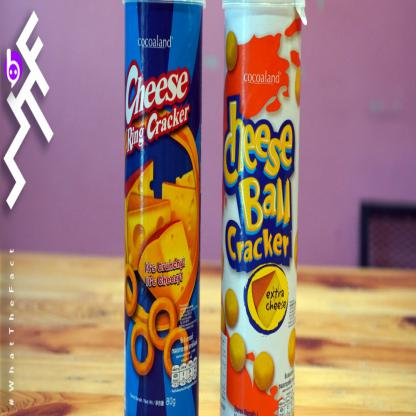potatochip: (219, 0, 307, 415), (121, 0, 203, 415)
